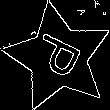P_SE: (27, 30, 89, 85)
